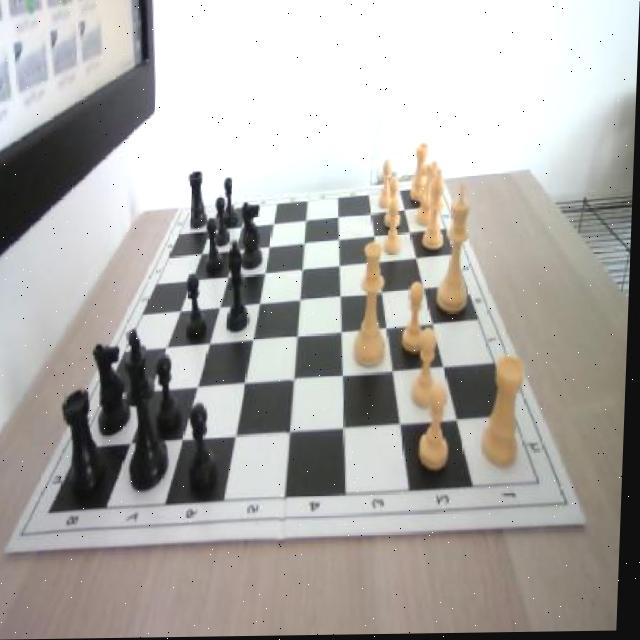bishop: (227, 237, 254, 334)
black-bishop: (124, 330, 177, 495)
black-king: (94, 342, 138, 434), (242, 198, 268, 273)
black-knight: (190, 407, 222, 494), (158, 351, 186, 437), (187, 271, 212, 342), (207, 221, 226, 276), (223, 179, 241, 231), (215, 197, 233, 246)
black-queen: (64, 389, 110, 504), (190, 171, 210, 229)
black-rook: (423, 170, 447, 249)
white-bishop: (440, 182, 475, 312)
white-king: (417, 159, 443, 230)
white-knight: (421, 386, 456, 475), (409, 330, 441, 413), (404, 281, 432, 353), (384, 200, 405, 256), (386, 177, 402, 230), (381, 158, 395, 208)
white-pawn: (357, 240, 391, 369)
white-queen: (485, 356, 529, 469), (411, 144, 431, 204)
